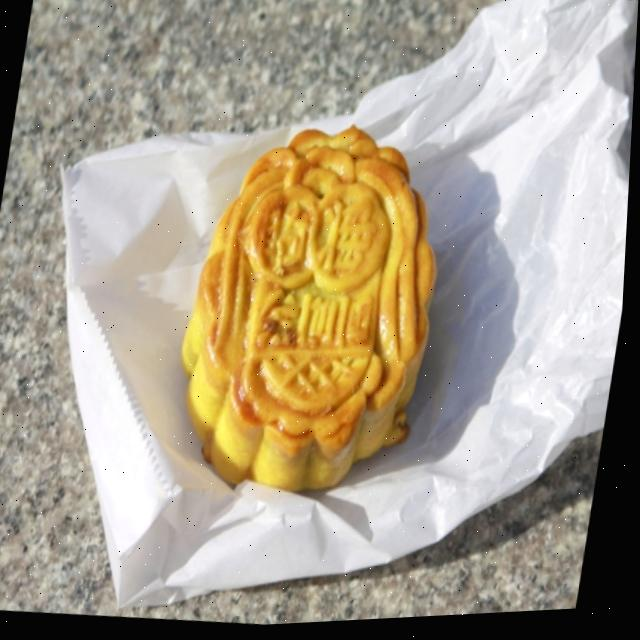蛋糕甜品: (140, 70, 509, 520)
